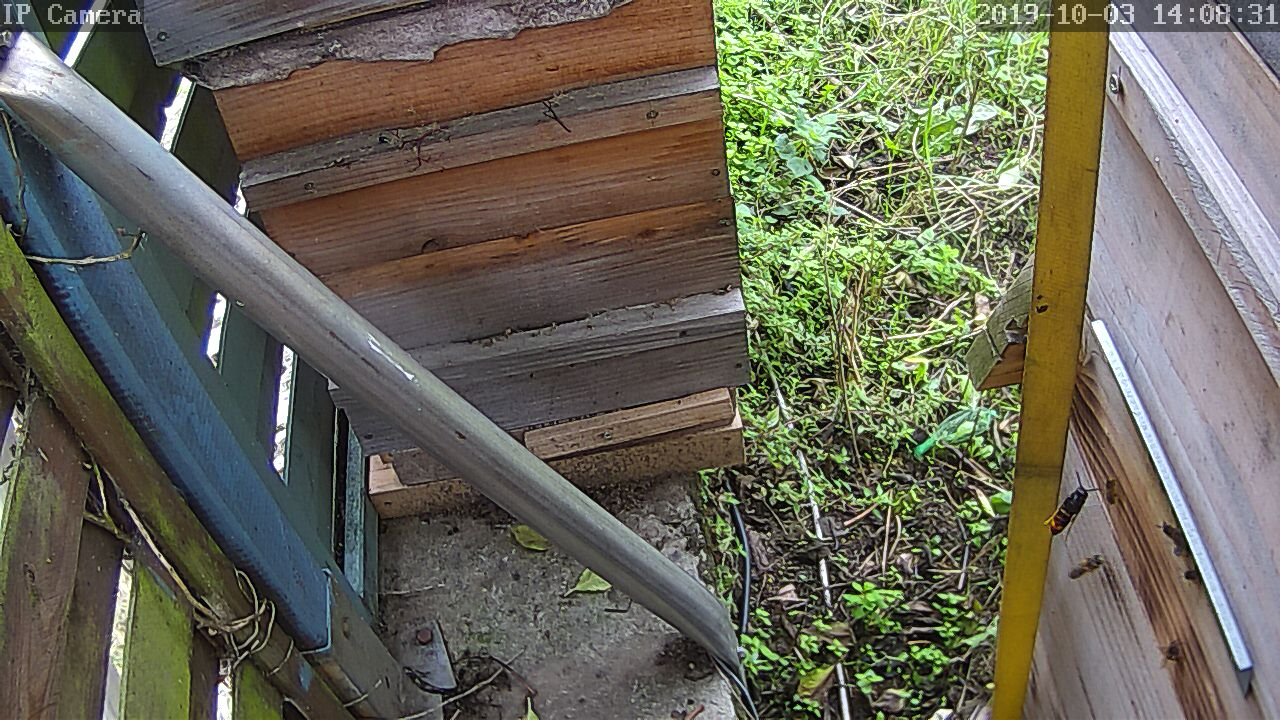bee: (1065, 552, 1106, 584), (1159, 517, 1188, 561), (1159, 635, 1194, 670), (1179, 563, 1203, 584)
hornet: (1042, 476, 1094, 540)
